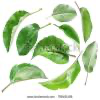Apple leaf: (38, 56, 82, 94), (31, 32, 76, 68), (0, 9, 33, 50), (11, 22, 43, 59), (7, 62, 47, 87), (82, 35, 97, 85), (49, 3, 78, 23), (80, 2, 92, 46)
